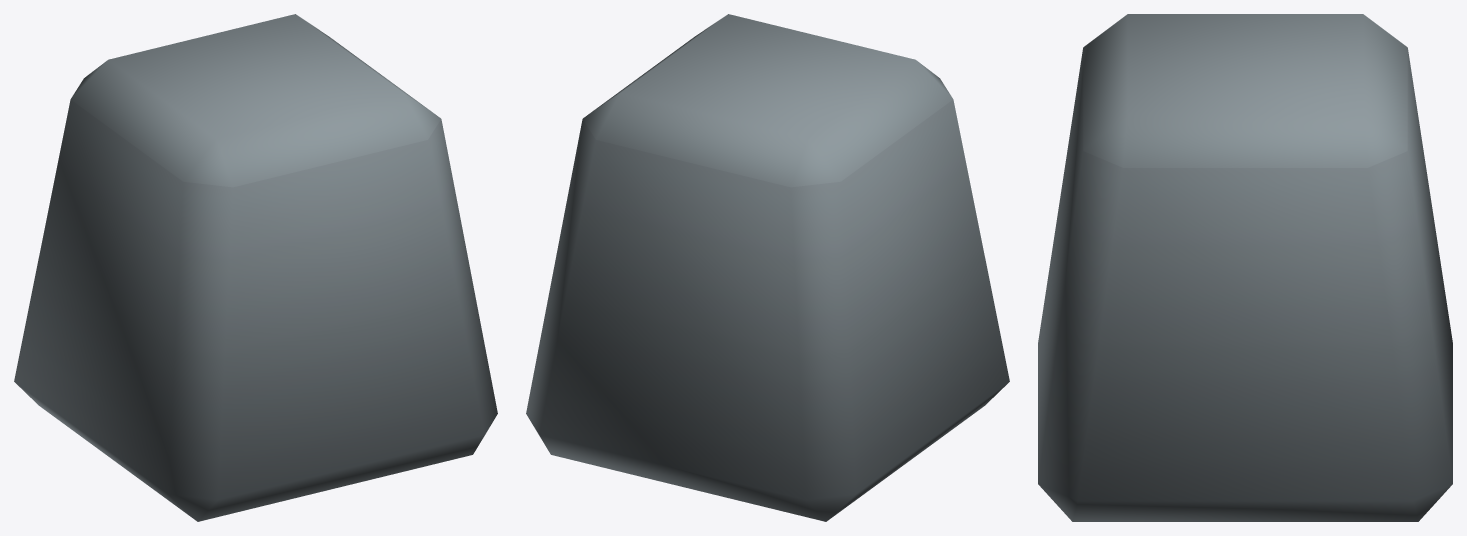
Rendered from Rock_2_B_Color1.glb.
The picture shows the model from 3 angles, left to right: view 1: azimuth 30°, elevation 25°; view 2: azimuth 150°, elevation 25°; view 3: azimuth 270°, elevation 25°; orthographic projection. The views are drawn at different scales.
Visible parts, largest first — view 1: Rock_2_B_Color1; view 2: Rock_2_B_Color1; view 3: Rock_2_B_Color1.
Part boxes in pixels (<box>): Rock_2_B_Color1: <box>14,14,497,521</box>; Rock_2_B_Color1: <box>526,14,1009,521</box>; Rock_2_B_Color1: <box>1038,14,1452,521</box>.
Bounding box in the file's own units: 0.6301 × 0.6455 × 0.6301.
Materials: 1 (1 with a texture image).
